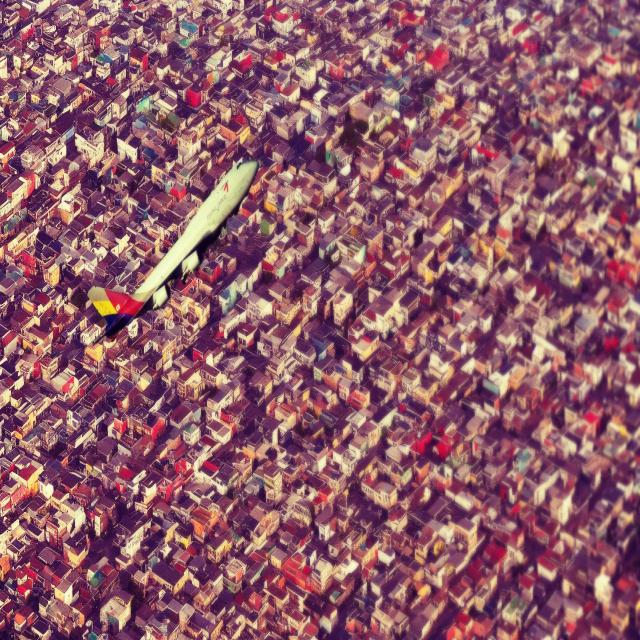airplane: (85, 156, 259, 335)
